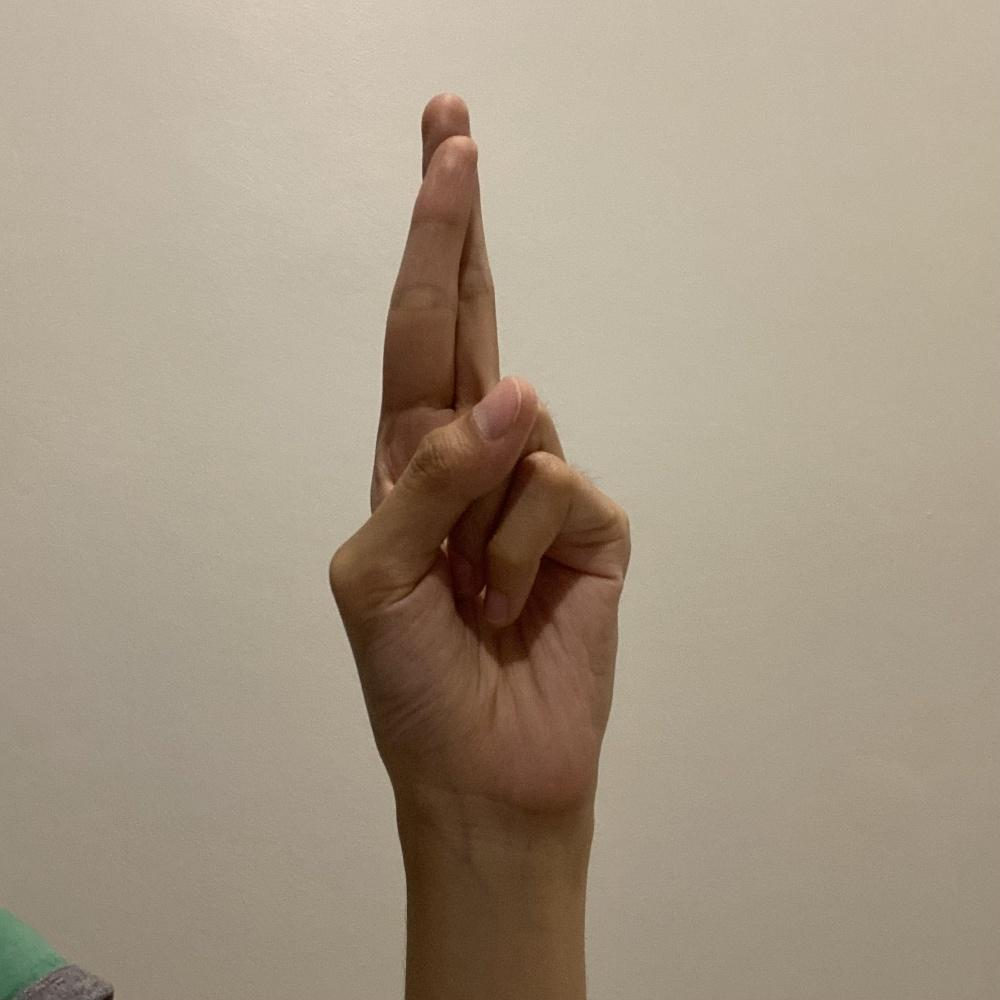r: (323, 87, 635, 825)
